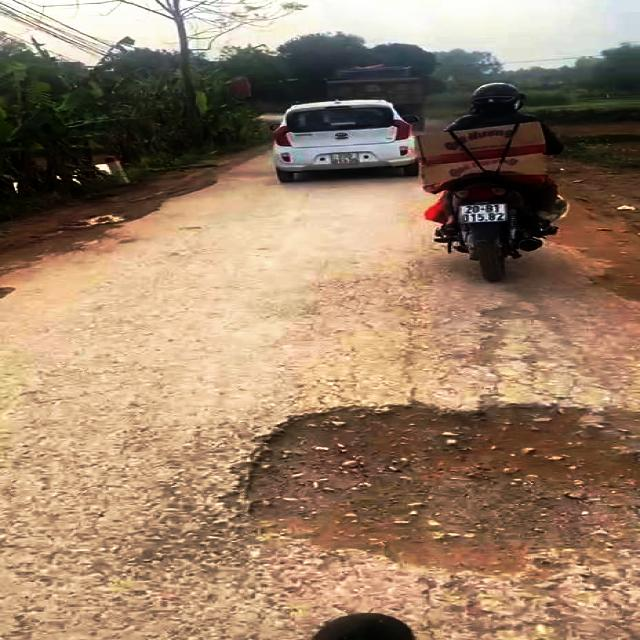pothole: (229, 398, 640, 576), (468, 304, 536, 374)
